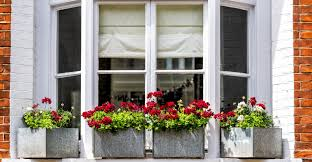Window: (93, 1, 207, 115), (219, 1, 251, 109), (51, 2, 82, 111)
